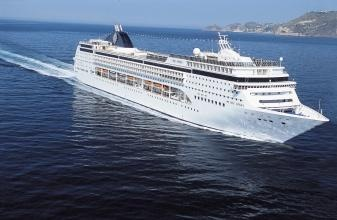youlun: (69, 16, 331, 140)
